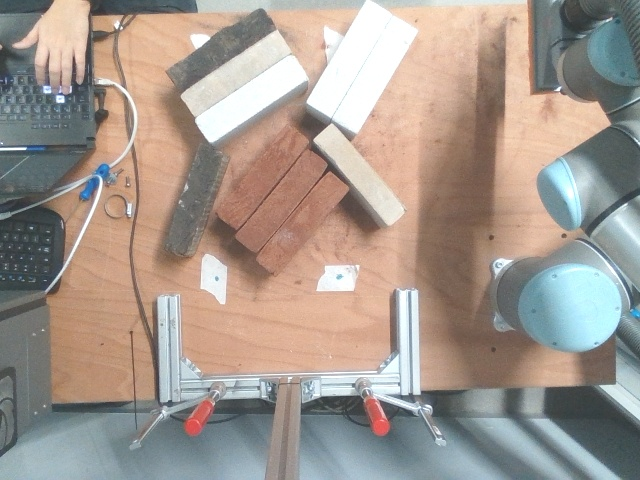brick-side: (309, 1, 390, 113), (197, 56, 304, 138), (181, 32, 288, 114), (336, 19, 414, 128), (168, 9, 273, 89), (238, 153, 325, 249), (258, 174, 344, 271), (219, 130, 305, 227), (317, 126, 404, 221), (166, 144, 218, 252)
